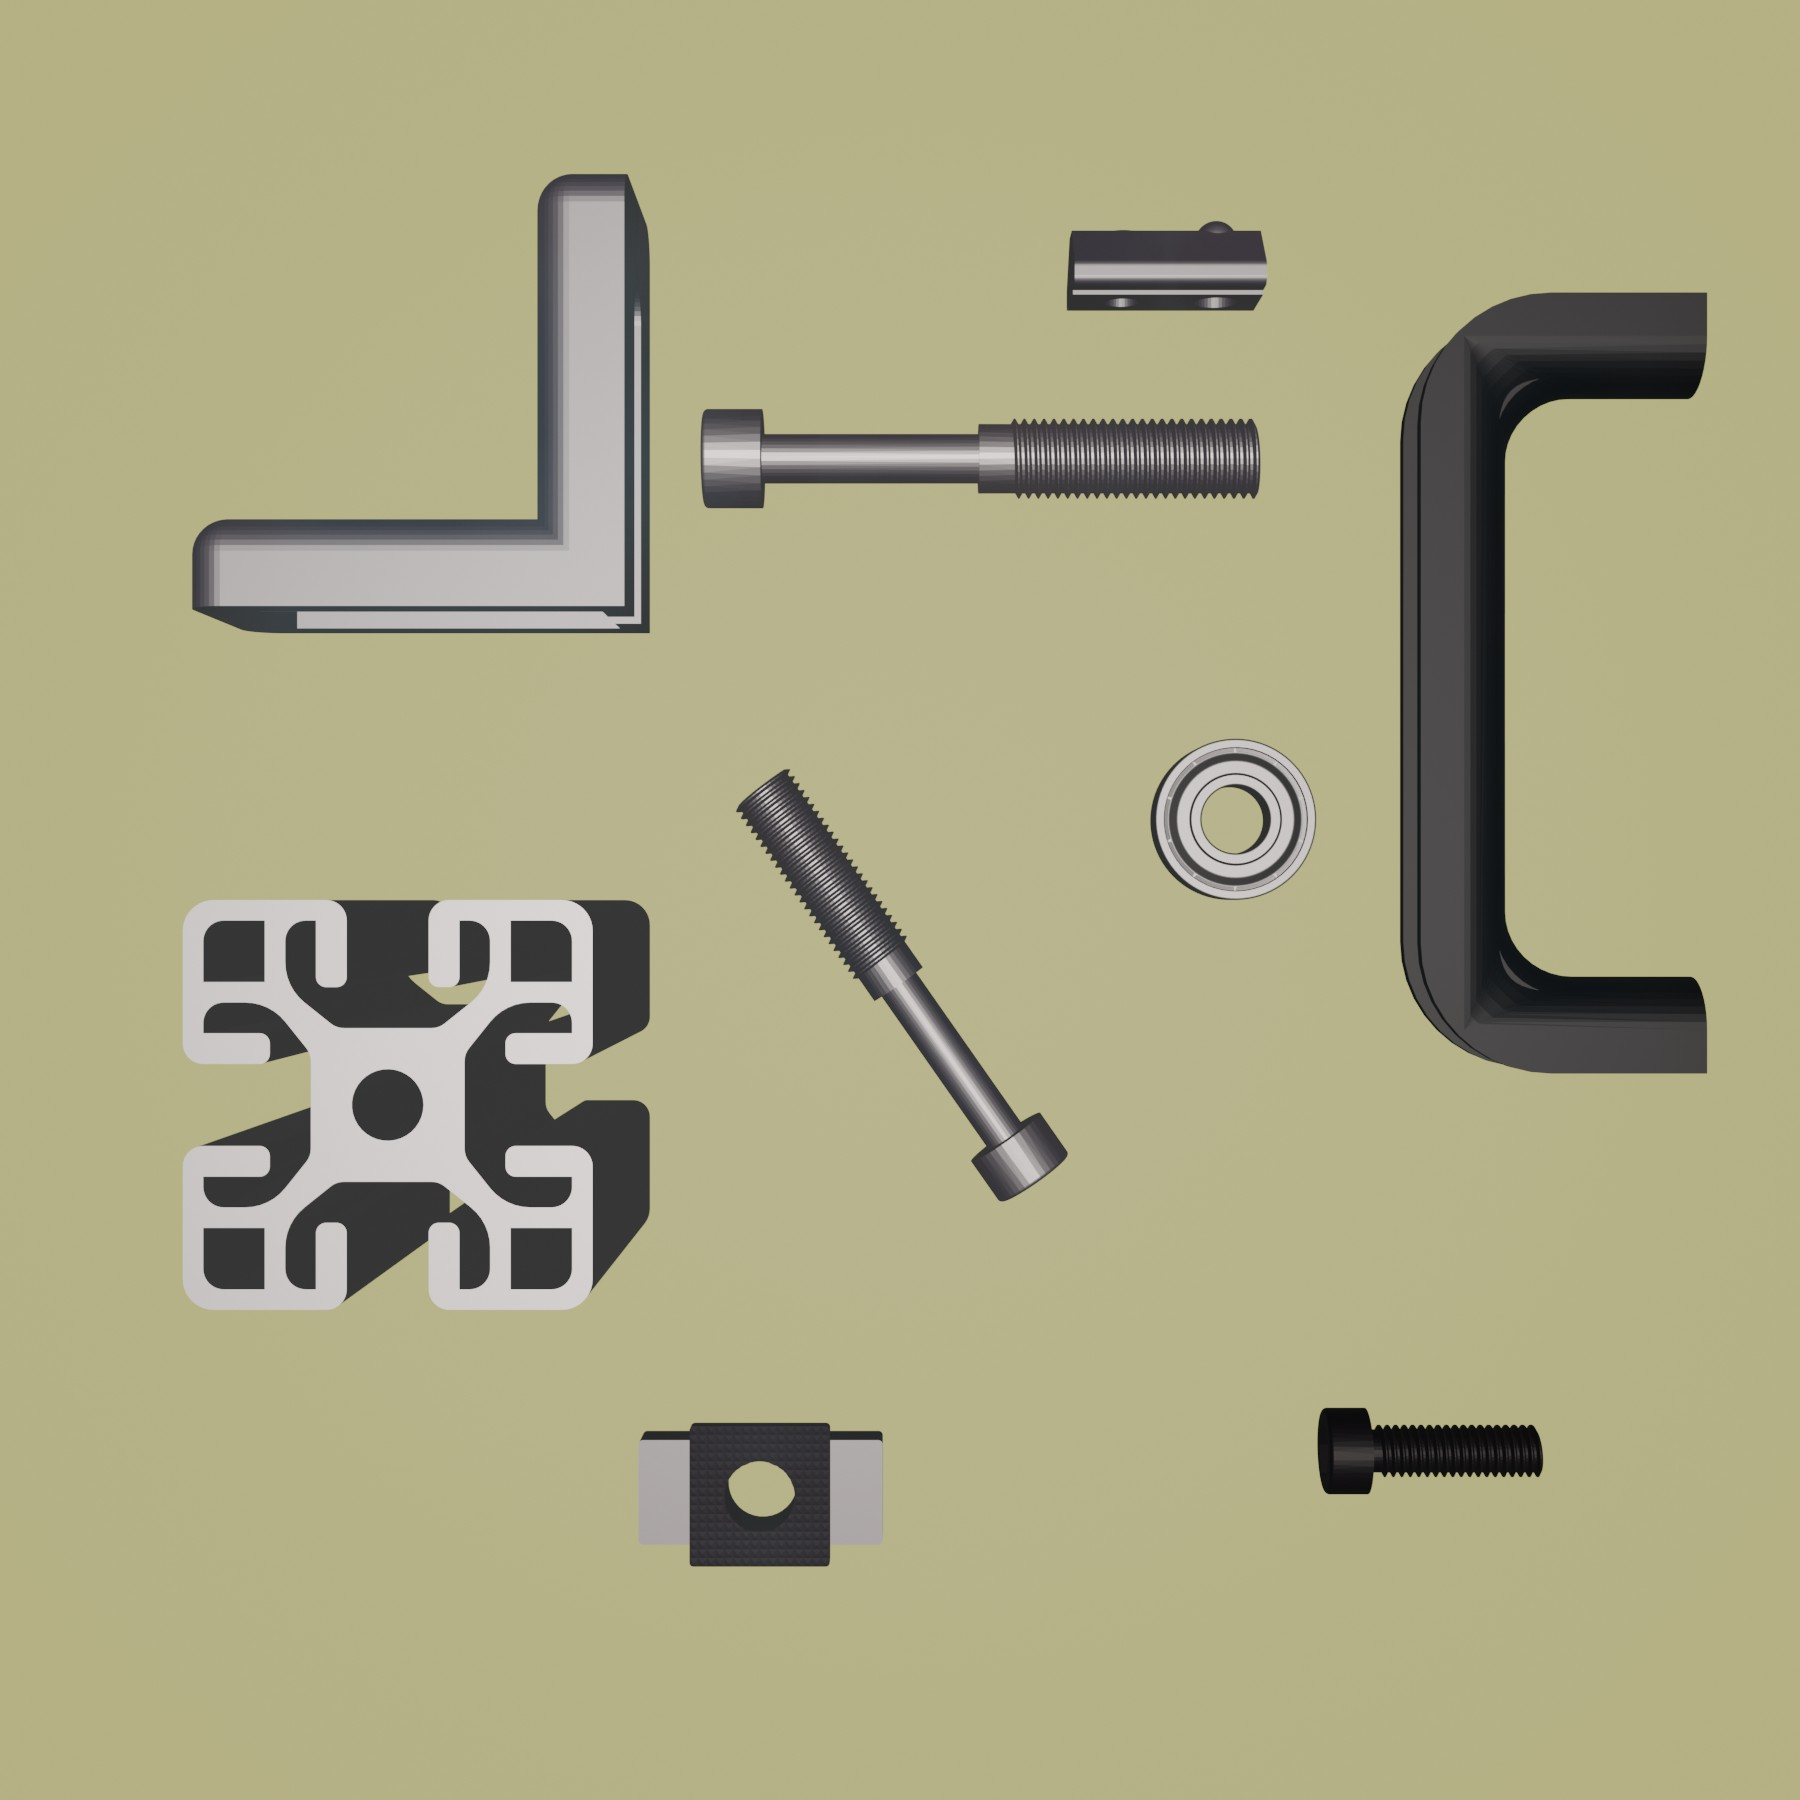Aluminium Extension: (178, 892, 654, 1319)
Ball Bearing: (1147, 734, 1319, 903)
Multiwinkel: (190, 170, 656, 640)
Pull Handle: (1395, 288, 1713, 1078)
Shoulder Socket Head Cap Screw: (734, 766, 1070, 1203), (696, 405, 1264, 513)
Socket Head Cap Screw: (1312, 1401, 1546, 1497)
T Nut Square: (633, 1416, 890, 1573)
T Spring Nut: (1063, 214, 1269, 313)
